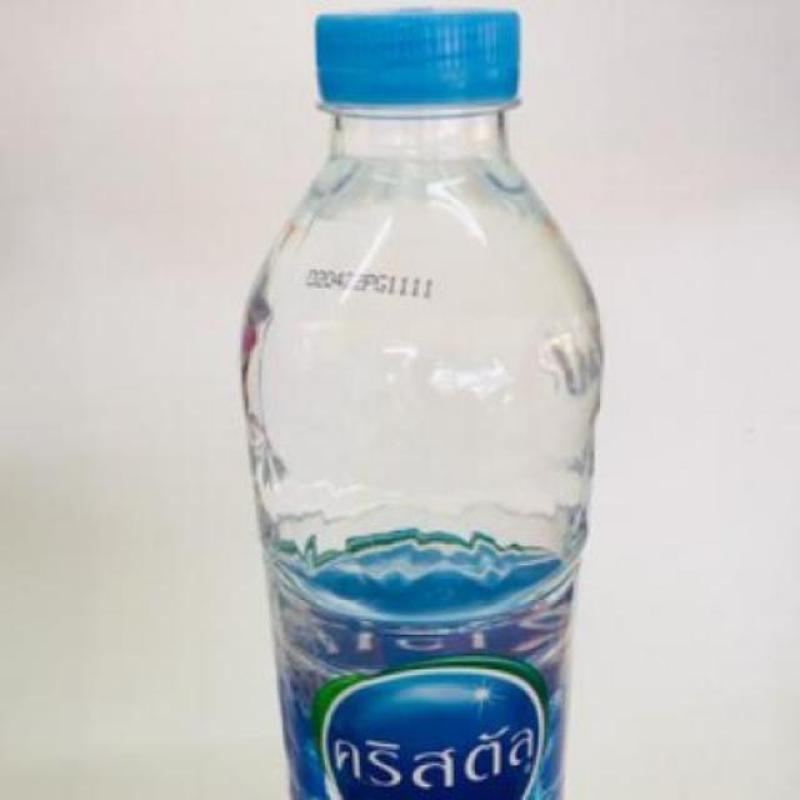botella: (238, 9, 604, 800)
